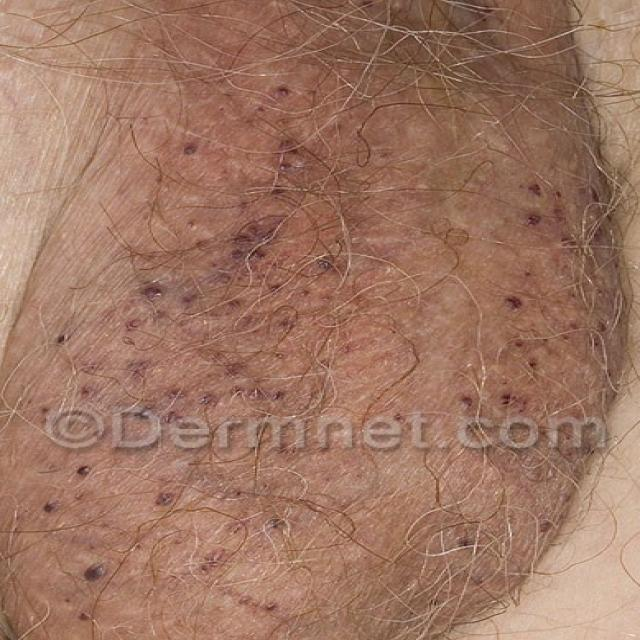Vascular Tumors: (56, 54, 586, 627)
